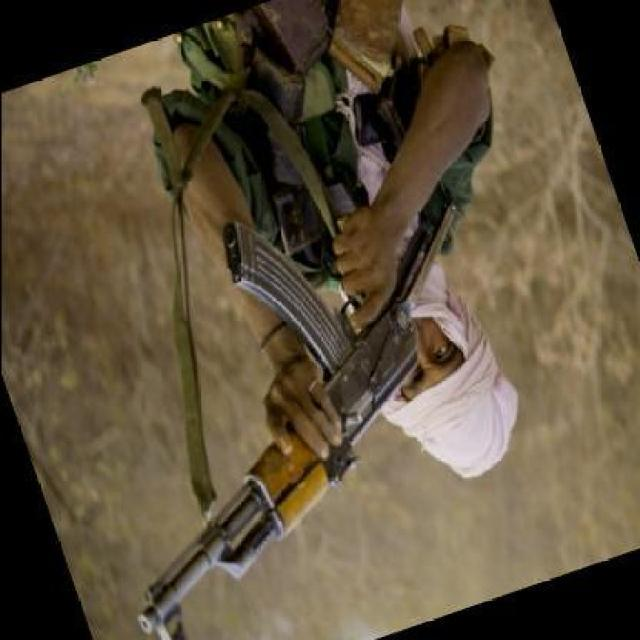rifle: (135, 18, 494, 638)
